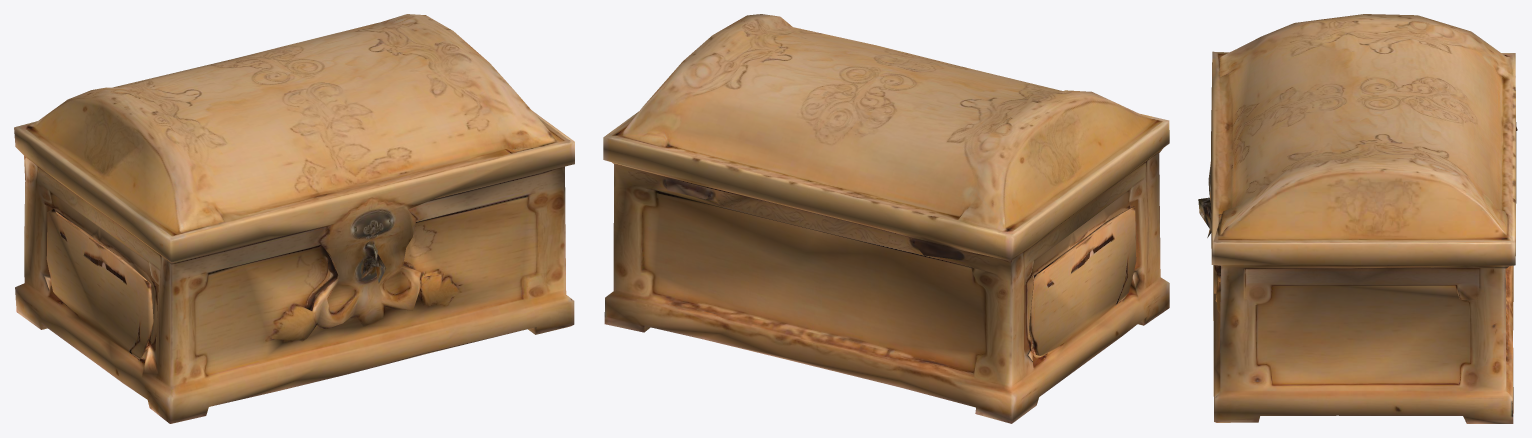
The picture shows the model from 3 angles, left to right: view 1: azimuth 30°, elevation 25°; view 2: azimuth 150°, elevation 25°; view 3: azimuth 270°, elevation 25°; orthographic projection. The views are drawn at different scales.
Parts seen in each view (by area): view 1: Mesh1.0; view 2: Mesh1.0; view 3: Mesh1.0.
Part boxes in pixels (x1,y1,x2,y2): Mesh1.0: (14,14,574,423); Mesh1.0: (603,14,1169,423); Mesh1.0: (1198,14,1517,423).
Size of the model in its own units: 201 by 116 by 141.
1 material, 1 textured.
